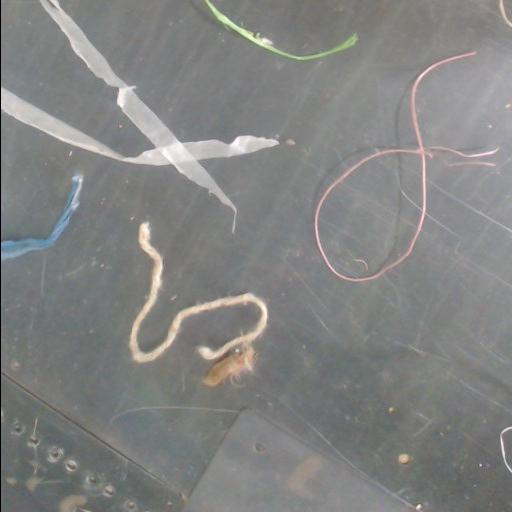cloth: (1, 174, 79, 259)
conveyor belt: (1, 0, 512, 511)
jute: (128, 222, 267, 384)
thread: (1, 0, 277, 232), (313, 51, 475, 282), (205, 0, 356, 60), (499, 426, 512, 473)
